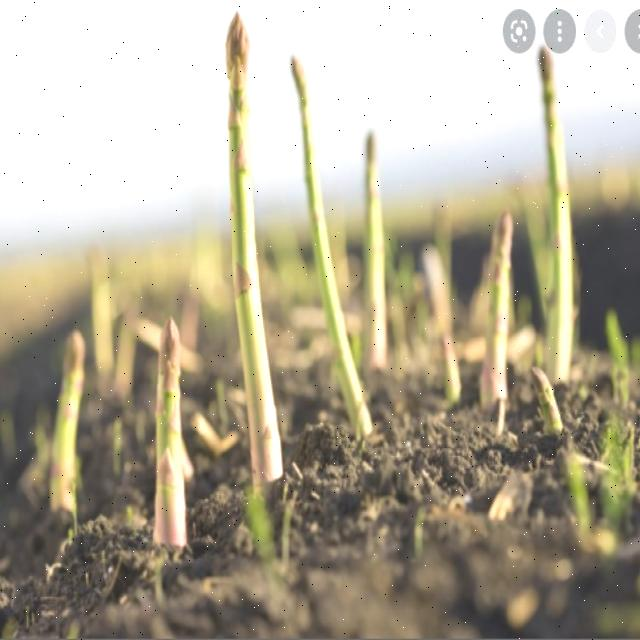aspargus: (288, 54, 379, 441), (225, 13, 284, 490), (537, 41, 578, 383), (151, 320, 188, 551), (44, 332, 85, 518), (484, 214, 516, 416)
